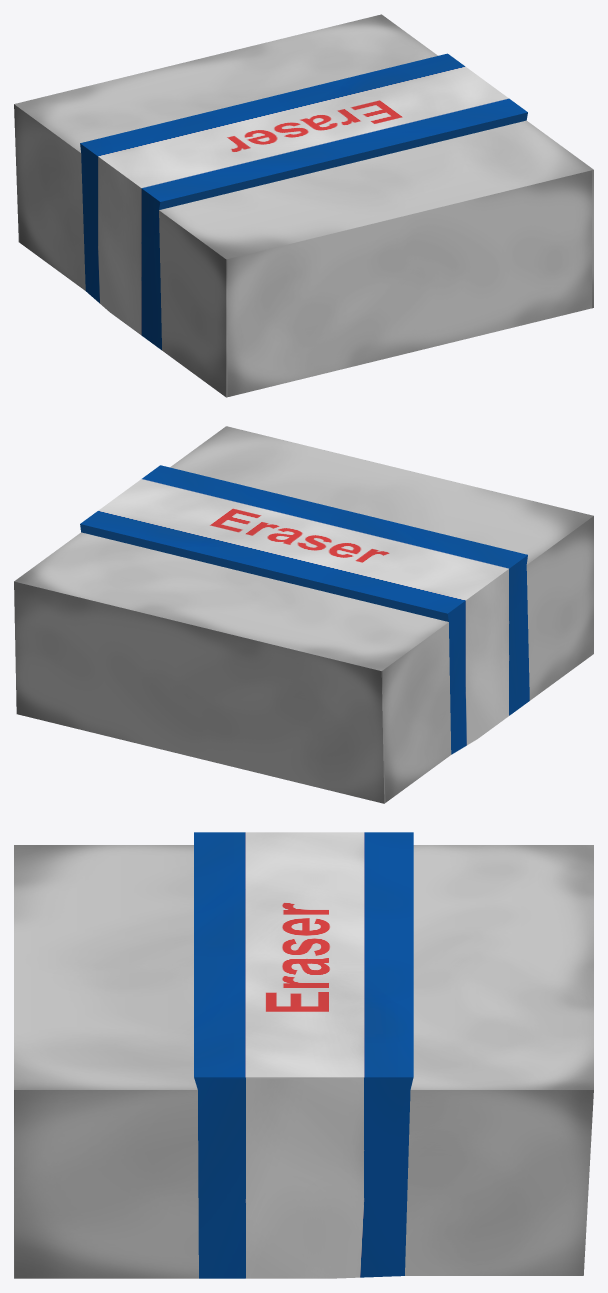
The model's file is Eraser.fbx.
3 renders of one model, top to bottom at view 1: azimuth 30°, elevation 25°; view 2: azimuth 150°, elevation 25°; view 3: azimuth 270°, elevation 25°, orthographic. The views are drawn at different scales.
Visible parts, largest first — view 1: pCube1; view 2: pCube1; view 3: pCube1.
Boxes of the visible parts, x1,y1,x2,y2 form: pCube1: (14, 14, 593, 397); pCube1: (14, 426, 593, 803); pCube1: (14, 832, 593, 1278).
Size of the model in its own units: 1.95 by 0.7445 by 1.94.
1 material, 1 textured.
